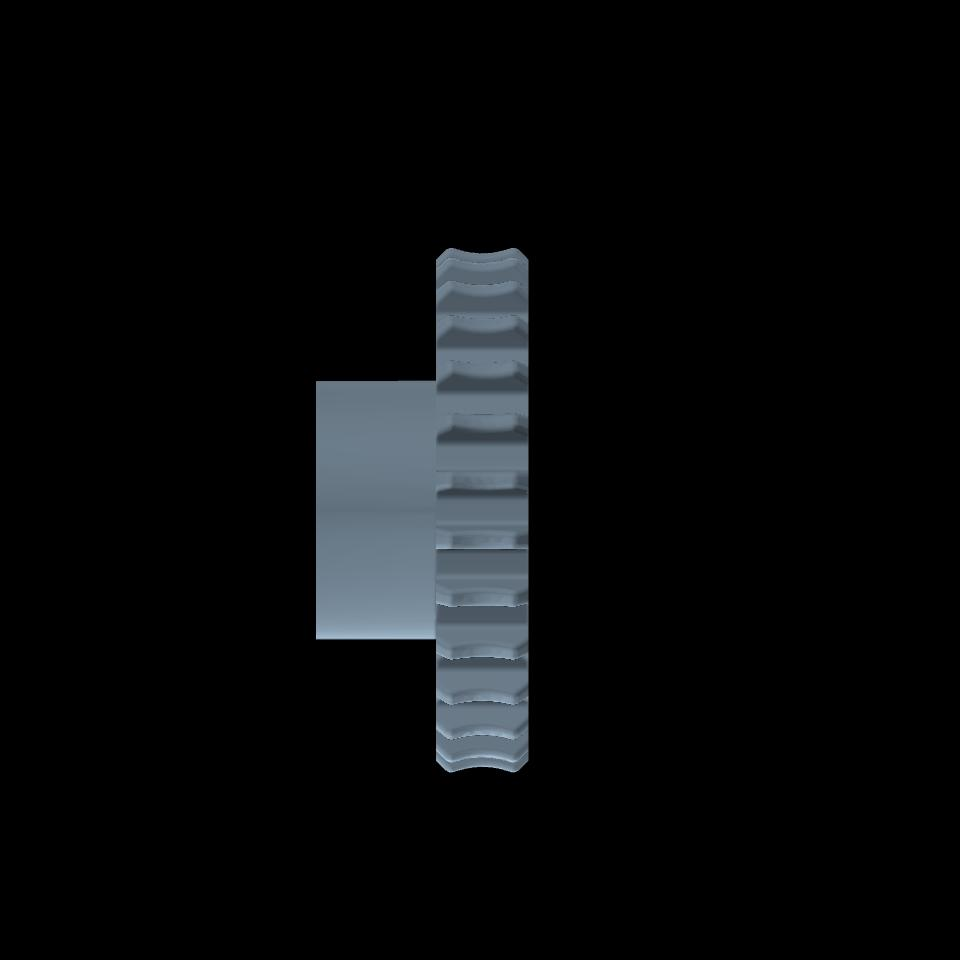Straight: (436, 248, 528, 772)
